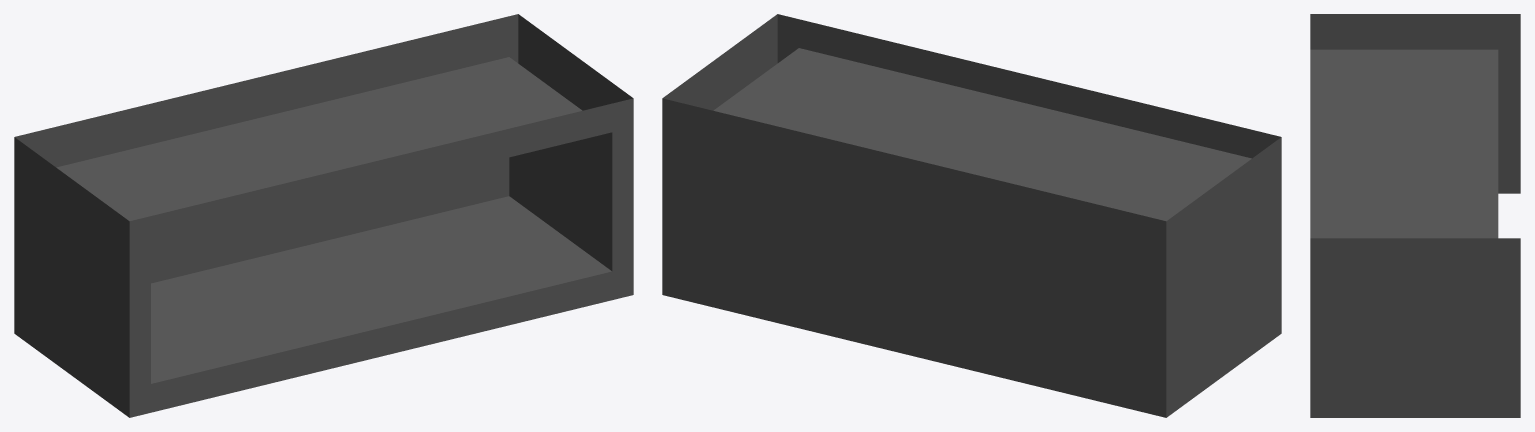
Rendered from Itr_Wardrobe1_Body_04.FBX.
3 renders of one model, left to right at view 1: azimuth 30°, elevation 25°; view 2: azimuth 150°, elevation 25°; view 3: azimuth 270°, elevation 25°, orthographic. The views are drawn at different scales.
Visible parts, largest first — view 1: Itr_Wardrobe1_Body_04; view 2: Itr_Wardrobe1_Body_04; view 3: Itr_Wardrobe1_Body_04.
Boxes of the visible parts, x1=… form: Itr_Wardrobe1_Body_04: x1=14, y1=14, x2=633, y2=417; Itr_Wardrobe1_Body_04: x1=662, y1=14, x2=1281, y2=417; Itr_Wardrobe1_Body_04: x1=1310, y1=14, x2=1520, y2=417.
Size of the model in its own units: 44.53 by 16.61 by 17.63.
